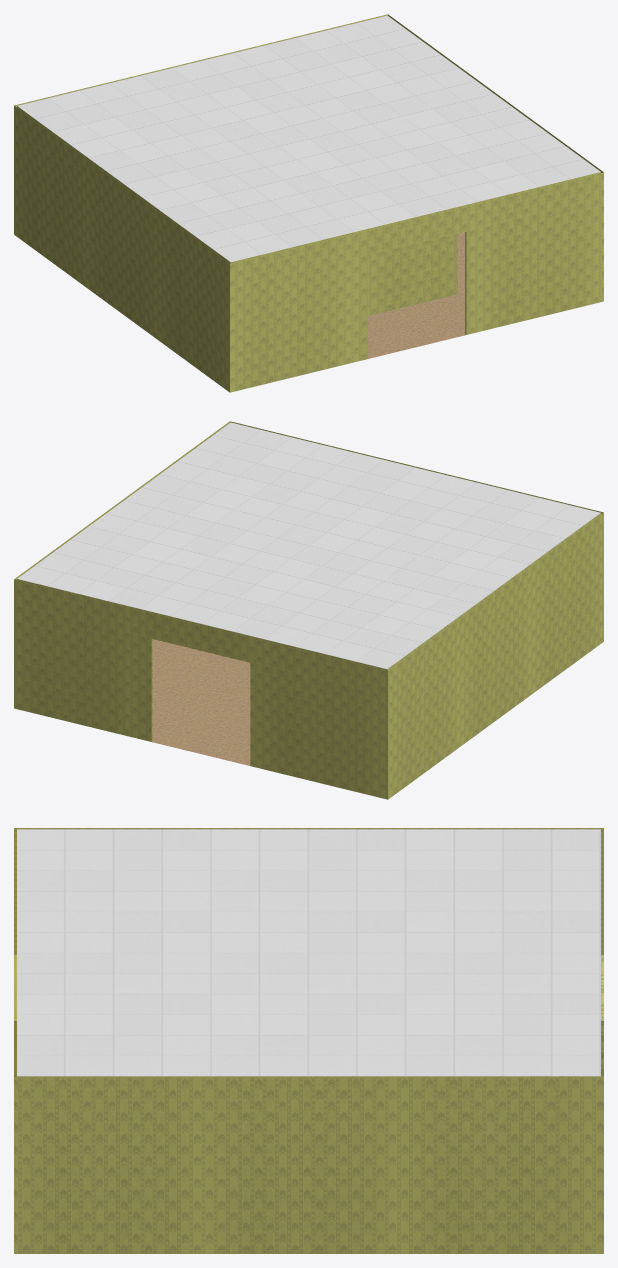
Rendered from 2exit.glb.
3 renders of one model, top to bottom at view 1: azimuth 30°, elevation 25°; view 2: azimuth 150°, elevation 25°; view 3: azimuth 270°, elevation 25°, orthographic. The views are drawn at different scales.
Parts seen in each view (by area): view 1: 2exit; view 2: 2exit; view 3: 2exit.
Boxes of the visible parts, <box> form: 2exit: <box>14,14,603,392</box>; 2exit: <box>14,421,603,799</box>; 2exit: <box>14,828,603,1253</box>.
Size of what is drawn, in the model's own units: 15.15 by 5 by 15.15.
Materials: 3 (3 with a texture image).
